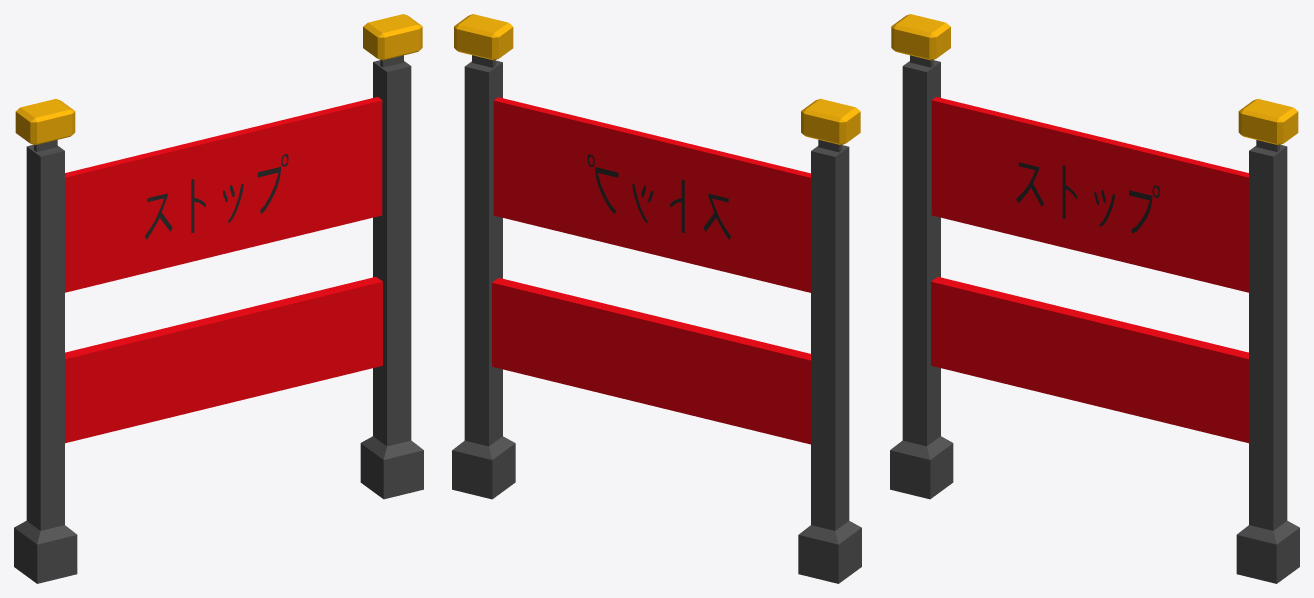
Rendered from StopSign.fbx.
3 views of the same model, side by side, from view 1: azimuth 30°, elevation 25°; view 2: azimuth 150°, elevation 25°; view 3: azimuth 330°, elevation 25° (orthographic).
Parts seen in each view (by area): view 1: Cube.003; view 2: Cube.003; view 3: Cube.003.
Boxes of the visible parts, left/top/right/bottom form: Cube.003: left=14, top=14, right=423, bottom=583; Cube.003: left=452, top=14, right=861, bottom=583; Cube.003: left=890, top=14, right=1299, bottom=583.
Size of the model in its own units: 167 by 188 by 17.14.
